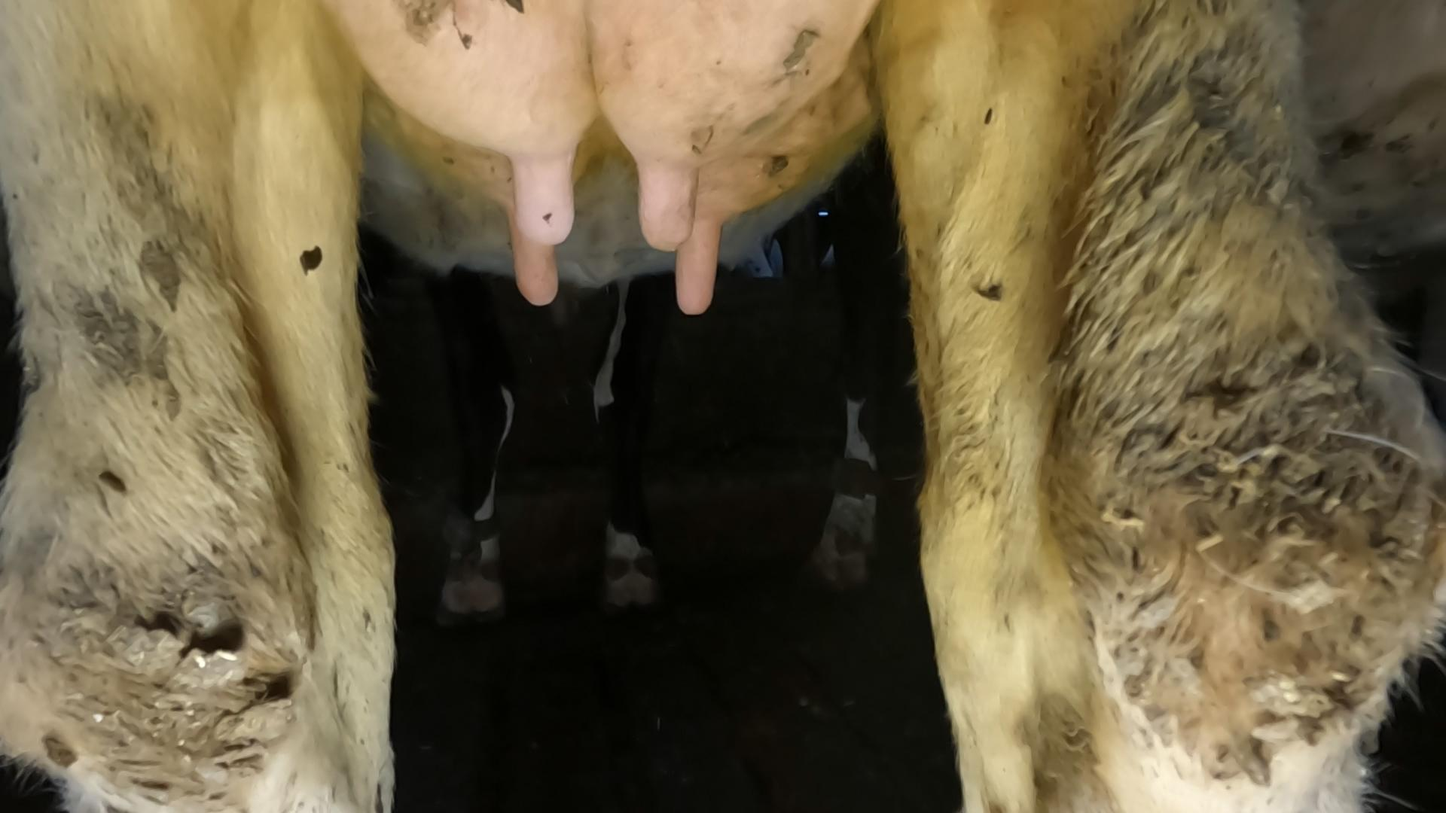Zitze: (499, 125, 586, 262), (663, 210, 735, 332), (632, 146, 707, 259), (510, 186, 562, 311)
